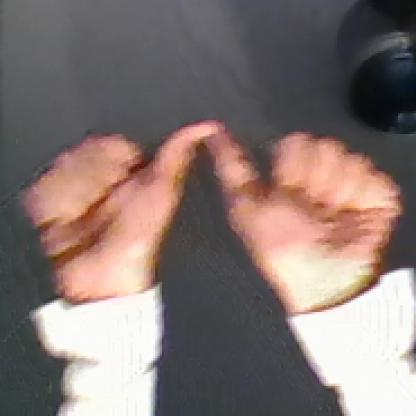A: (20, 112, 402, 286)
